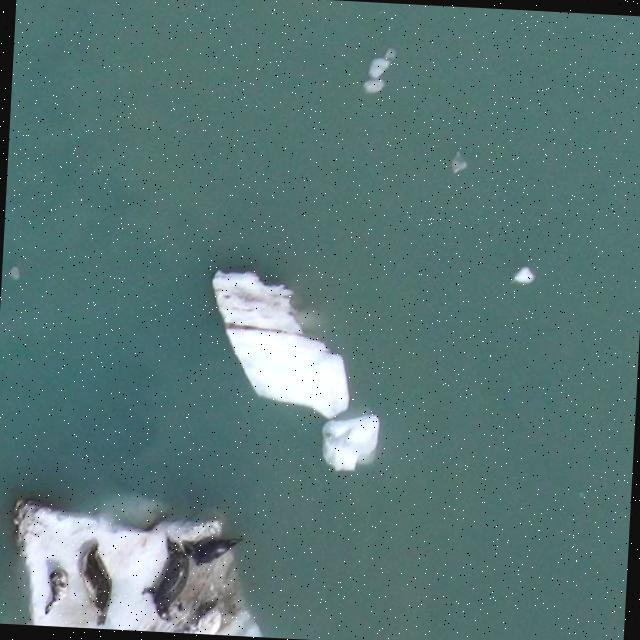seal: (137, 537, 202, 622), (74, 543, 124, 627), (43, 567, 75, 620), (183, 537, 242, 563)
